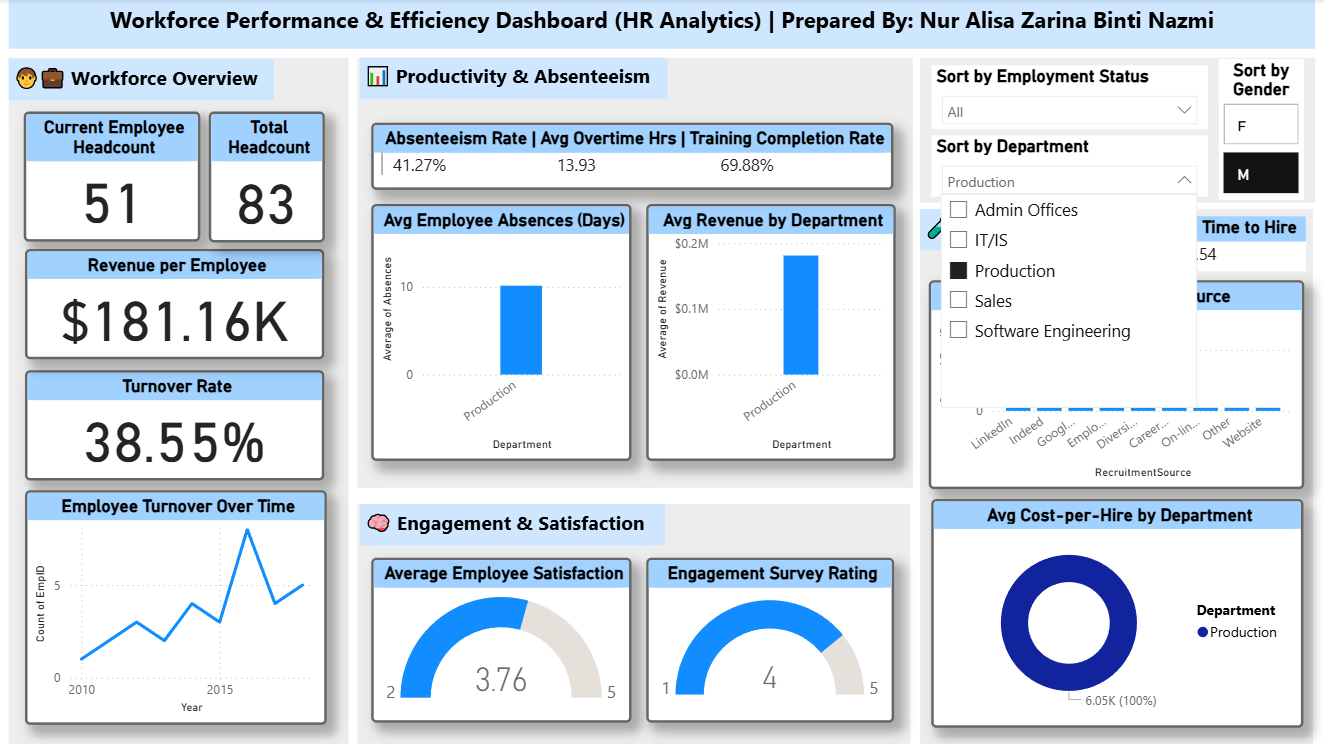

What the dashboard file says about the page in this screenshot:
{"tool":"powerbi","page":{"name":"Executive Overview","canvas":[1280,720],"ordinal":0},"visuals":[{"type":"shape","box":[887.6,57.2,381.3,139.8],"z":0},{"type":"shape","box":[345.3,487.2,533.8,233],"z":1000},{"type":"shape","box":[887.5,203.1,379.2,516.9],"z":2000},{"type":"shape","box":[345.3,57.2,536,415.2],"z":3000},{"type":"shape","box":[8.5,57.2,328.4,663.1],"z":4000},{"type":"textbox","box":[8.7,0,1261,47.8],"z":5000},{"type":"card","title":"Current Employee Headcount","fields":{"Values":["cleaned_hr_data.Headcount"]},"box":[22.9,108.6,170.1,125.5],"z":6000},{"type":"card","title":"Turnover Rate","fields":{"Values":["cleaned_hr_data.Turnover Rate"]},"box":[23.9,358.7,289.2,106.5],"z":7000},{"type":"gauge","title":"Average Employee Satisfaction","fields":{"MaxValue":["Max(cleaned_hr_data.EmpSatisfaction)1"],"MinValue":["Min(cleaned_hr_data.EmpSatisfaction)2"],"Y":["Avg(cleaned_hr_data.EmpSatisfaction)"]},"box":[358.3,539.9,251.5,159.5],"z":8000},{"type":"gauge","title":"Engagement Survey Rating","fields":{"MaxValue":["Max(cleaned_hr_data.EngagementSurvey)2"],"MinValue":["Min(cleaned_hr_data.EngagementSurvey)1"],"Y":["Avg(cleaned_hr_data.EngagementSurvey)"]},"box":[623.3,539.9,239.3,159.5],"z":9000},{"type":"columnChart","title":"Avg Employee Absences (Days)","fields":{"Category":["cleaned_hr_data.Department"],"Y":["Avg(cleaned_hr_data.Absences)"]},"box":[358.3,197.5,251.5,247.9],"z":10000},{"type":"columnChart","title":"Hires by Recruitment Source","fields":{"Category":["cleaned_hr_data.RecruitmentSource"],"Y":["CountNonNull(cleaned_hr_data.EmpID)"]},"box":[895.9,270.9,362.3,201.3],"z":11000},{"type":"donutChart","title":"Avg Cost-per-Hire by Department","fields":{"Category":["cleaned_hr_data.Department"],"Y":["Avg(cleaned_hr_data.HiringCost)"]},"box":[898.8,482.6,359.5,220.8],"z":12000},{"type":"columnChart","title":"Avg Revenue by Department","fields":{"Category":["cleaned_hr_data.Department"],"Y":["Avg(cleaned_hr_data.Revenue)"]},"box":[623.3,197.5,240.5,247.9],"z":13000},{"type":"card","title":"Revenue per Employee","fields":{"Values":["Avg(cleaned_hr_data.Revenue)"]},"box":[23.9,241.3,289.2,106.5],"z":14000},{"type":"lineChart","title":"Employee Turnover Over Time","fields":{"Category":["cleaned_hr_data.DateofTermination.Variation.Date Hierarchy.Year","cleaned_hr_data.DateofTermination.Variation.Date Hierarchy.Month"],"Y":["CountNonNull(cleaned_hr_data.EmpID)"]},"box":[23.9,474,291.3,226.1],"z":15000},{"type":"multiRowCard","title":"Absenteeism Rate | Avg Overtime Hrs | Training Completion Rate","fields":{"Values":["cleaned_hr_data.Absenteeism Rate","Avg(cleaned_hr_data.OvertimeHours)","cleaned_hr_data.Training Completion Rate"]},"box":[358.3,119,504.3,65],"z":16000},{"type":"textbox","box":[8.8,57.5,256.2,40],"z":17000},{"type":"textbox","box":[347.4,57.2,296.6,40.3],"z":18000},{"type":"textbox","box":[887.5,203.1,209.7,40.3],"z":19000},{"type":"multiRowCard","title":"Avg Time to Hire","fields":{"Values":["cleaned_hr_data.Avg Time to Hire"]},"box":[1119,209.8,141.1,52.8],"z":20000},{"type":"textbox","box":[347.4,487.2,294.5,40.3],"z":21000},{"type":"slicer","title":"Sort by Employment Status","fields":{"Values":["cleaned_hr_data.EmploymentStatus"]},"box":[898.2,63.6,266.9,61.4],"z":22000},{"type":"slicer","title":"Sort by Department","fields":{"Values":["cleaned_hr_data.Department"]},"box":[898.2,131.3,266.9,59.3],"z":23000},{"type":"advancedSlicerVisual","title":"Sort by Gender","fields":{"Values":["cleaned_hr_data.Sex"]},"box":[1176.3,57.9,82,136.3],"z":24000},{"type":"card","title":"Total Headcount","fields":{"Values":["CountNonNull(cleaned_hr_data.EmpID)"]},"box":[201.5,108.6,112.2,126.7],"z":25000}]}

Visuals, with their boxes in screenshot pixels (x1, y1, x2, y2), scaled from the page's 1280x720 canvas onto the 1324x744 screenshot:
shape: 918/59/1313/204
shape: 357/503/909/743
shape: 918/210/1310/743
shape: 357/59/912/488
shape: 9/59/348/743
textbox: 9/0/1313/49
"Current Employee Headcount" card: 24/112/200/242
"Turnover Rate" card: 25/371/324/481
"Average Employee Satisfaction" gauge: 371/558/631/723
"Engagement Survey Rating" gauge: 645/558/892/723
"Avg Employee Absences (Days)" columnChart: 371/204/631/460
"Hires by Recruitment Source" columnChart: 927/280/1301/488
"Avg Cost-per-Hire by Department" donutChart: 930/499/1302/727
"Avg Revenue by Department" columnChart: 645/204/893/460
"Revenue per Employee" card: 25/249/324/359
"Employee Turnover Over Time" lineChart: 25/490/326/723
"Absenteeism Rate | Avg Overtime Hrs | Training Completion Rate" multiRowCard: 371/123/892/190
textbox: 9/59/274/101
textbox: 359/59/666/101
textbox: 918/210/1135/252
"Avg Time to Hire" multiRowCard: 1157/217/1303/271
textbox: 359/503/664/545
"Sort by Employment Status" slicer: 929/66/1205/129
"Sort by Department" slicer: 929/136/1205/197
"Sort by Gender" advancedSlicerVisual: 1217/60/1302/201
"Total Headcount" card: 208/112/324/243
